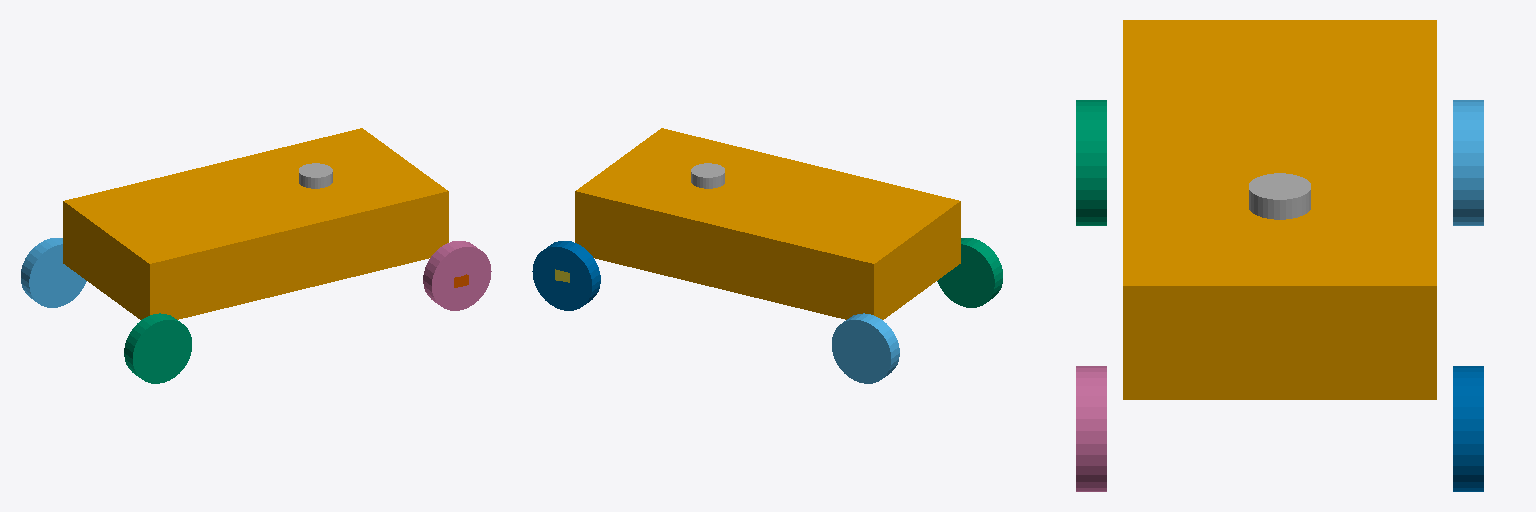
robot.urdf — four_wheel_car:
<?xml version="1.0"?>
<robot name="four_wheel_car">

  <!-- ==================== 車体（ベースフレーム） ==================== -->
  <link name="base_link">
    <inertial>
      <origin xyz="0 0 0" rpy="0 0 0"/>
      <mass value="5.0"/>
      <inertia ixx="0.104167" ixy="0.0" ixz="0.0" iyy="0.433333" iyz="0.0" izz="0.504167"/>
    </inertial>
    <visual>
      <origin xyz="0 0 0.15" rpy="0 0 0"/>
      <geometry>
        <box size="1.0 0.5 0.2"/>
      </geometry>
    </visual>
    <collision>
      <origin xyz="0 0 0.15" rpy="0 0 0"/>
      <geometry>
        <box size="1.0 0.5 0.2"/>
      </geometry>
    </collision>
  </link>

  <!-- ==================== 後輪（前後回転のみ） ==================== -->
  <!-- 左後輪 -->
  <joint name="rear_left_wheel_joint" type="continuous">
    <parent link="base_link"/>
    <child link="rear_left_wheel"/>
    <origin xyz="-0.5 0.3 0" rpy="0 0 0"/>
    <axis xyz="0 1 0"/>
  </joint>

  <link name="rear_left_wheel">
    <inertial>
      <origin xyz="0 0 0" rpy="1.5708 0 0"/>
      <mass value="0.5"/>
      <inertia ixx="0.001354" ixy="0.0" ixz="0.0" iyy="0.002500" iyz="0.0" izz="0.001354"/>
    </inertial>
    <visual>
      <origin xyz="0 0 0" rpy="1.5708 0 0"/>
      <geometry>
        <cylinder radius="0.1" length="0.05"/>
      </geometry>
    </visual>
    <collision>
      <origin xyz="0 0 0" rpy="1.5708 0 0"/>
      <geometry>
        <cylinder radius="0.1" length="0.05"/>
      </geometry>
    </collision>
  </link>

  <gazebo reference="rear_left_wheel">
    <mu1>1.0</mu1>
    <mu2>1.0</mu2>
  </gazebo>

  <!-- 右後輪 -->
  <joint name="rear_right_wheel_joint" type="continuous">
    <parent link="base_link"/>
    <child link="rear_right_wheel"/>
    <origin xyz="-0.5 -0.3 0" rpy="0 0 0"/>
    <axis xyz="0 1 0"/>
  </joint>

  <link name="rear_right_wheel">
    <inertial>
      <origin xyz="0 0 0" rpy="1.5708 0 0"/>
      <mass value="0.5"/>
      <inertia ixx="0.001354" ixy="0.0" ixz="0.0" iyy="0.002500" iyz="0.0" izz="0.001354"/>
    </inertial>
    <visual>
      <origin xyz="0 0 0" rpy="1.5708 0 0"/>
      <geometry>
        <cylinder radius="0.1" length="0.05"/>
      </geometry>
    </visual>
    <collision>
      <origin xyz="0 0 0" rpy="1.5708 0 0"/>
      <geometry>
        <cylinder radius="0.1" length="0.05"/>
      </geometry>
    </collision>
  </link>

  <gazebo reference="rear_right_wheel">
    <mu1>1.0</mu1>
    <mu2>1.0</mu2>
  </gazebo>

  <!-- ==================== 左前輪（ステアリング ＋ 駆動輪） ==================== -->
  <!-- 左前ステアリング -->
  <joint name="front_left_steer_joint" type="revolute">
    <parent link="base_link"/>
    <child link="front_left_steer_link"/>
    <origin xyz="0.5 0.3 0" rpy="0 0 0"/>
    <axis xyz="0 0 1"/>
    <limit lower="-0.5" upper="0.5" effort="10.0" velocity="1.0"/>
  </joint>

  <link name="front_left_steer_link">
    <inertial>
      <origin xyz="0 0 0" rpy="0 0 0"/>
      <mass value="0.1"/>
      <inertia ixx="0.0001" ixy="0.0" ixz="0.0" iyy="0.0001" iyz="0.0" izz="0.0001"/>
    </inertial>
    <visual>
      <geometry>
        <box size="0.05 0.05 0.05"/>
      </geometry>
    </visual>
    <collision>
      <geometry>
        <box size="0.05 0.05 0.05"/>
      </geometry>
    </collision>
  </link>

  <!-- 左前輪回転 -->
  <joint name="front_left_wheel_joint" type="continuous">
    <parent link="front_left_steer_link"/>
    <child link="front_left_wheel"/>
    <origin xyz="0 0 0" rpy="0 0 0"/>
    <axis xyz="0 1 0"/>
  </joint>

  <link name="front_left_wheel">
    <inertial>
      <origin xyz="0 0 0" rpy="1.5708 0 0"/>
      <mass value="0.5"/>
      <inertia ixx="0.001354" ixy="0.0" ixz="0.0" iyy="0.002500" iyz="0.0" izz="0.001354"/>
    </inertial>
    <visual>
      <origin xyz="0 0 0" rpy="1.5708 0 0"/>
      <geometry>
        <cylinder radius="0.1" length="0.05"/>
      </geometry>
    </visual>
    <collision>
      <origin xyz="0 0 0" rpy="1.5708 0 0"/>
      <geometry>
        <cylinder radius="0.1" length="0.05"/>
      </geometry>
    </collision>
  </link>

  <!-- ==================== 右前輪（ステアリング ＋ 駆動輪） ==================== -->
  <!-- 右前ステアリング -->
  <joint name="front_right_steer_joint" type="revolute">
    <parent link="base_link"/>
    <child link="front_right_steer_link"/>
    <origin xyz="0.5 -0.3 0" rpy="0 0 0"/>
    <axis xyz="0 0 1"/>
    <limit lower="-0.5" upper="0.5" effort="10.0" velocity="1.0"/>
  </joint>

  <link name="front_right_steer_link">
    <inertial>
      <origin xyz="0 0 0" rpy="0 0 0"/>
      <mass value="0.1"/>
      <inertia ixx="0.0001" ixy="0.0" ixz="0.0" iyy="0.0001" iyz="0.0" izz="0.0001"/>
    </inertial>
    <visual>
      <geometry>
        <box size="0.05 0.05 0.05"/>
      </geometry>
    </visual>
    <collision>
      <geometry>
        <box size="0.05 0.05 0.05"/>
      </geometry>
    </collision>
  </link>

  <!-- 右前輪回転 -->
  <joint name="front_right_wheel_joint" type="continuous">
    <parent link="front_right_steer_link"/>
    <child link="front_right_wheel"/>
    <origin xyz="0 0 0" rpy="0 0 0"/>
    <axis xyz="0 1 0"/>
  </joint>

  <link name="front_right_wheel">
    <inertial>
      <origin xyz="0 0 0" rpy="1.5708 0 0"/>
      <mass value="0.5"/>
      <inertia ixx="0.001354" ixy="0.0" ixz="0.0" iyy="0.002500" iyz="0.0" izz="0.001354"/>
    </inertial>
    <visual>
      <origin xyz="0 0 0" rpy="1.5708 0 0"/>
      <geometry>
        <cylinder radius="0.1" length="0.05"/>
      </geometry>
    </visual>
    <collision>
      <origin xyz="0 0 0" rpy="1.5708 0 0"/>
      <geometry>
        <cylinder radius="0.1" length="0.05"/>
      </geometry>
    </collision>
  </link>

  <!-- ==================== LiDARを車両に乗せる ==================== -->
  <joint name="lidar_joint" type="fixed">
    <parent link="base_link"/>
    <child link="lidar_link"/>
    <!-- 車両中心から見た LiDAR の位置（例: 前方0.2m、高さ0.25m） -->
    <origin xyz="0.2 0.0 0.25" rpy="0 0 0"/>
  </joint>

  <link name="lidar_link">
    <!-- 慣性情報がないと Gazebo 側でリンクが削除されるため必須 -->
    <inertial>
      <origin xyz="0 0 0" rpy="0 0 0"/>
      <mass value="0.1"/>
      <inertia ixx="0.0001" ixy="0.0" ixz="0.0" iyy="0.0001" iyz="0.0" izz="0.0001"/>
    </inertial>
    <visual>
      <origin xyz="0 0 0" rpy="0 0 0"/>
      <geometry>
        <cylinder radius="0.05" length="0.07"/>
      </geometry>
    </visual>
    <collision>
      <origin xyz="0 0 0" rpy="0 0 0"/>
      <geometry>
        <cylinder radius="0.05" length="0.07"/>
      </geometry>
    </collision>
  </link>

  <!-- Gazebo Sim (Ignition) 用 センサー定義 -->
  <gazebo reference="lidar_link">
    <sensor name="gpu_lidar" type="gpu_lidar">
      <pose>0 0 0 0 0 0</pose>
      <update_rate>11</update_rate>
      <ray>
        <scan>
          <horizontal>
            <samples>360</samples>
            <resolution>1</resolution>
            <min_angle>-3.14159</min_angle> <!-- radian -->
            <max_angle>3.14159</max_angle>
          </horizontal>
          <vertical>
            <samples>18</samples>
            <resolution>1</resolution>
            <min_angle>-0.785398</min_angle>
            <max_angle>0.785398</max_angle>
          </vertical>
        </scan>
        <range>
          <min>0.15</min>
          <max>50.0</max>
          <resolution>0.01</resolution>
        </range>
      </ray>
      <always_on>1</always_on>
      <visualize>false</visualize> <!-- Gazebo上でレーザー光（赤色）を可視化 -->
      <topic>/unilidar/pointcloud</topic>
    </sensor>
  </gazebo>

  <!-- ==================== IMU リンク ＆ ジョイント ==================== -->
  <joint name="imu_joint" type="fixed">
    <parent link="lidar_link"/> <!-- lidar_link または base_link に固定 -->
    <child link="imu_link"/>
    <!-- LiDAR と同じ位置、またはわずかにオフセットさせた位置 -->
    <origin xyz="0 0 0" rpy="0 0 0"/>
  </joint>

  <link name="imu_link">
    <!-- 固定ジョイントの自動消滅（Fixed Joint Collapse）を防ぐための微少な慣性設定 -->
    <inertial>
      <mass value="0.01"/>
      <origin xyz="0 0 0" rpy="0 0 0"/>
      <inertia ixx="0.00001" ixy="0.0" ixz="0.0" iyy="0.00001" iyz="0.0" izz="0.00001"/>
    </inertial>
  </link>

  <!-- Gazebo Sim (Ignition) 用 IMU センサー定義 -->
  <gazebo reference="imu_link">
    <sensor name="imu_sensor" type="imu">
      <always_on>true</always_on>
      <update_rate>250</update_rate> <!-- unilidarは250Hz -->
      <visualize>true</visualize>
      <topic>/unilidar/imu</topic>
      <imu>
        <angular_velocity>
          <x>
            <noise type="gaussian">
              <mean>0.0</mean>
              <stddev>2e-4</stddev>
            </noise>
          </x>
          <y>
            <noise type="gaussian">
              <mean>0.0</mean>
              <stddev>2e-4</stddev>
            </noise>
          </y>
          <z>
            <noise type="gaussian">
              <mean>0.0</mean>
              <stddev>2e-4</stddev>
            </noise>
          </z>
        </angular_velocity>
        <linear_acceleration>
          <x>
            <noise type="gaussian">
              <mean>0.0</mean>
              <stddev>1.7e-2</stddev>
            </noise>
          </x>
          <y>
            <noise type="gaussian">
              <mean>0.0</mean>
              <stddev>1.7e-2</stddev>
            </noise>
          </y>
          <z>
            <noise type="gaussian">
              <mean>0.0</mean>
              <stddev>1.7e-2</stddev>
            </noise>
          </z>
        </linear_acceleration>
      </imu>
    </sensor>
  </gazebo>

  <!-- ==================== ros2_control ハードウェア定義 ==================== -->
  <ros2_control name="GazeboSimSystem" type="system">
    <hardware>
      <plugin>gz_ros2_control/GazeboSimSystem</plugin>
    </hardware>

    <!-- ステアリング軸（位置制御：サーボ） -->
    <joint name="front_left_steer_joint">
      <command_interface name="position"/>
      <state_interface name="position"/>
      <state_interface name="velocity"/>
    </joint>
    <joint name="front_right_steer_joint">
      <command_interface name="position"/>
      <state_interface name="position"/>
      <state_interface name="velocity"/>
    </joint>

    <!-- 車輪駆動軸（速度制御：4輪同期） -->
    <joint name="rear_left_wheel_joint">
      <command_interface name="velocity"/>
      <state_interface name="position"/>
      <state_interface name="velocity"/>
    </joint>
    <joint name="rear_right_wheel_joint">
      <command_interface name="velocity"/>
      <state_interface name="position"/>
      <state_interface name="velocity"/>
    </joint>
    <!--<joint name="front_left_wheel_joint">
      <command_interface name="velocity"/>
      <state_interface name="position"/>
      <state_interface name="velocity"/>
    </joint>
    <joint name="front_right_wheel_joint">
      <command_interface name="velocity"/>
      <state_interface name="position"/>
      <state_interface name="velocity"/>
    </joint>-->
  </ros2_control>

  <!-- Ignition Gazebo 用 ros2_control プラグイン -->
  <gazebo>
    <plugin filename="gz_ros2_control-system" name="gz_ros2_control::GazeboSimROS2ControlPlugin">
      <!-- controllers.yaml のフルパス、または $(find <pkg_name>)/config/controllers.yaml -->
      <parameters>CONTROLLER_YAML_PATH/config/controllers.yaml</parameters>
    </plugin>
  </gazebo>

</robot>

--- What the picture shows (computed from the rendered views, not written in the file) ---
Views: 3 orthographic renders of the robot side by side, from view 1: azimuth 30°, elevation 25°; view 2: azimuth 150°, elevation 25°; view 3: azimuth 270°, elevation 25°.
Robot: four_wheel_car — 9 links, 8 joints (2 revolute, 4 continuous, 2 fixed); root link base_link; default pose: all joints at 0.
Links seen in each view (by area): view 1: base_link, rear_right_wheel, front_right_wheel, rear_left_wheel, lidar_link; view 2: base_link, rear_left_wheel, front_left_wheel, rear_right_wheel, lidar_link; view 3: base_link, rear_left_wheel, rear_right_wheel, front_left_wheel, front_right_wheel, lidar_link.
Link boxes in pixels (x1,y1,x2,y2): base_link: (63,128,448,319); rear_right_wheel: (124,313,191,383); front_right_wheel: (423,241,491,310); rear_left_wheel: (21,238,86,307); lidar_link: (299,163,332,188); base_link: (575,128,960,319); rear_left_wheel: (832,313,899,383); front_left_wheel: (532,241,600,310); rear_right_wheel: (937,238,1002,307); lidar_link: (691,163,724,188); base_link: (1123,20,1436,399); rear_left_wheel: (1453,100,1483,225); rear_right_wheel: (1076,100,1106,225); front_left_wheel: (1453,366,1483,491); front_right_wheel: (1076,366,1106,491); lidar_link: (1249,173,1310,219).
Bounding box of the posed robot: 1.2 × 0.65 × 0.385 m (x, y, z).
Geometry: primitives only (box / cylinder / sphere), no mesh files.
